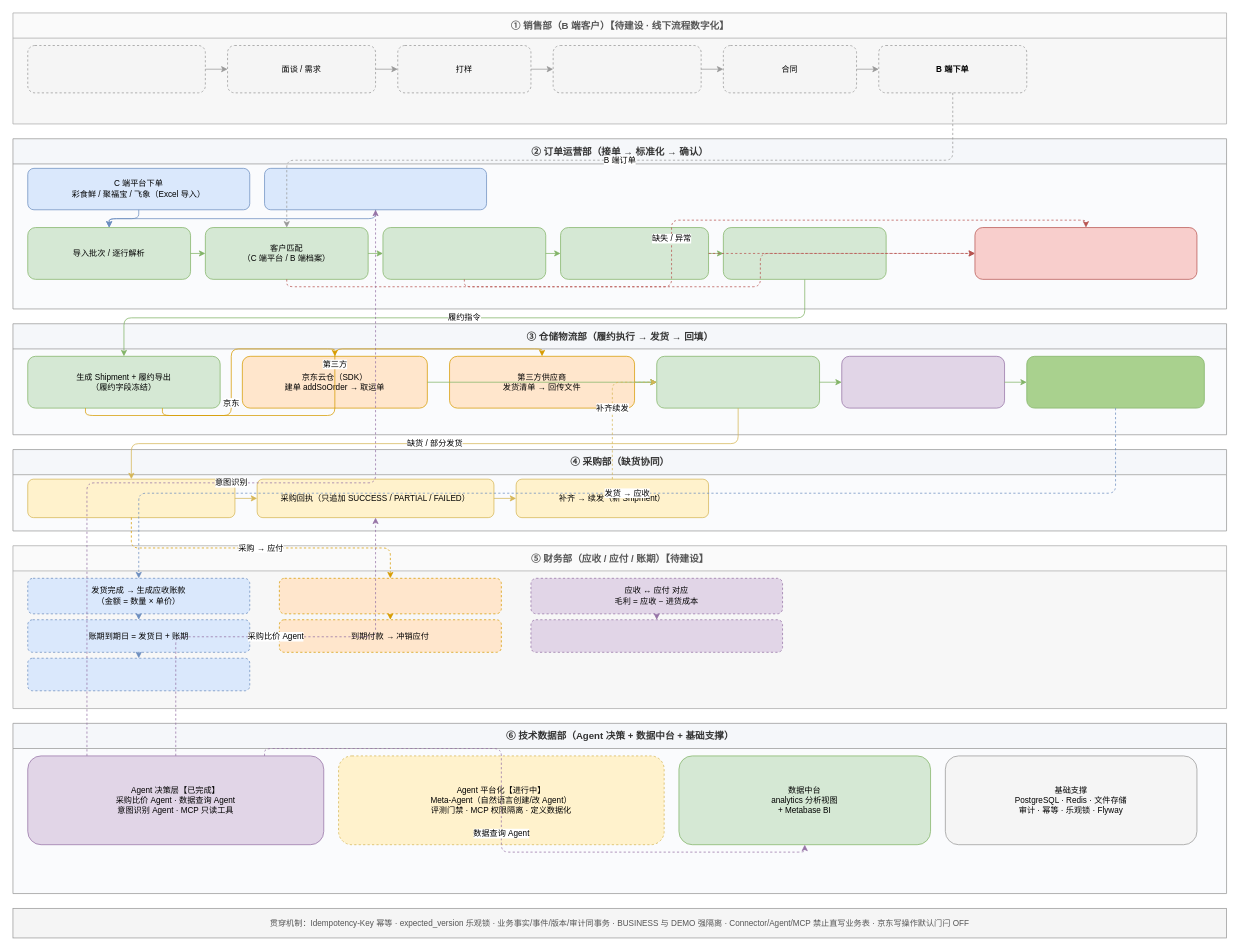
Image size: 1240x951. Some labels were removed from this diagram. The shapes that lost their labels are listed below. From the top down, each one's box as (x1, y1, x2, y2) in pixels, then its label:
(27, 45, 205, 93): B 端线索 / 客户档案
(552, 45, 701, 93): 报价 / 议价
(264, 168, 487, 210): 企微消息 @机器人 → 意图识别 → 草稿
(382, 227, 546, 279): SKU 显式映射 + 乘数
(560, 227, 709, 279): 批次整体确认
(723, 227, 886, 279): 生成履约指令 （Fulfillment）
(974, 227, 1197, 279): 人工复核 ReviewCase 缺客户 / 缺 SKU / 草稿复核 / 异常
(656, 356, 820, 408): 运单整批接收 （TRACKING_RECEIVED）
(841, 356, 1005, 408): 来源回填表 （平台原格式）
(1026, 356, 1204, 408): 行级 COMPLETED 订单聚合 SYNCED
(27, 478, 235, 518): 缺货 → 采购工单
(279, 578, 501, 614): 采购完成 → 应付账款 （金额 = 数量 × 采购单价）
(530, 619, 783, 652): 资金缺口 = 应收 − 应付 → 企业财务健康度看板
(27, 657, 250, 691): 回款冲销 / 逾期预警（黄·红）
